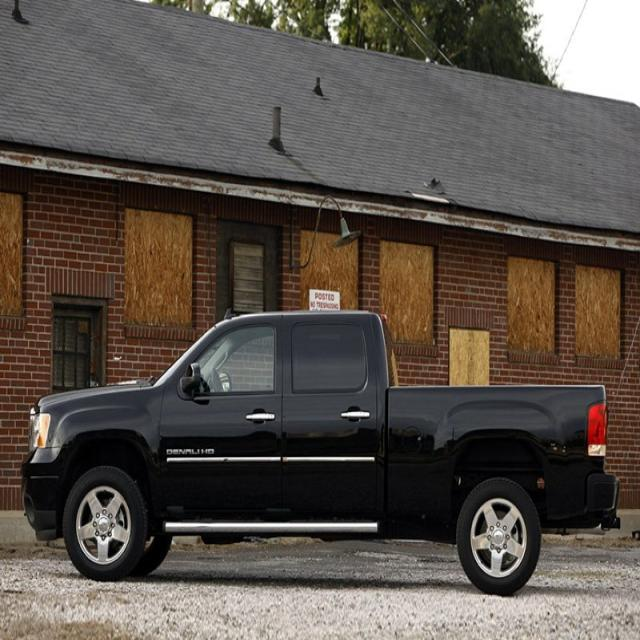back_left_side_light: (585, 398, 609, 458)
door: (281, 315, 381, 530)
front_bumper: (19, 446, 64, 544)
front_left_side_door: (158, 313, 285, 527)
front_left_side_light: (28, 412, 52, 451)
front_left_side_mirror: (177, 361, 201, 401)
rear_bumper: (580, 466, 623, 531)
wheel: (456, 476, 542, 596), (63, 466, 146, 583)
